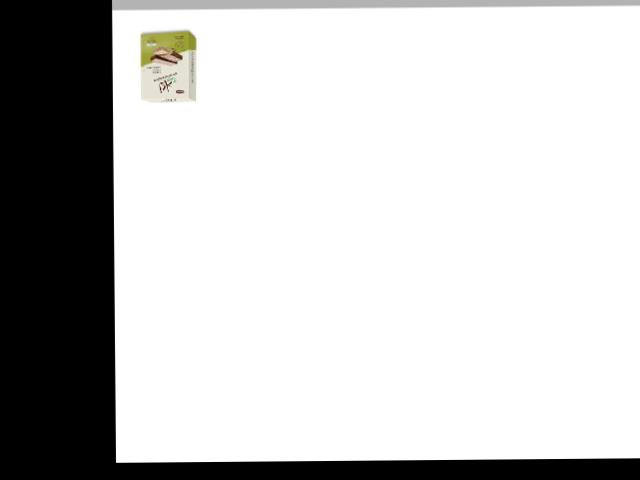chocolate: (134, 27, 200, 104)
